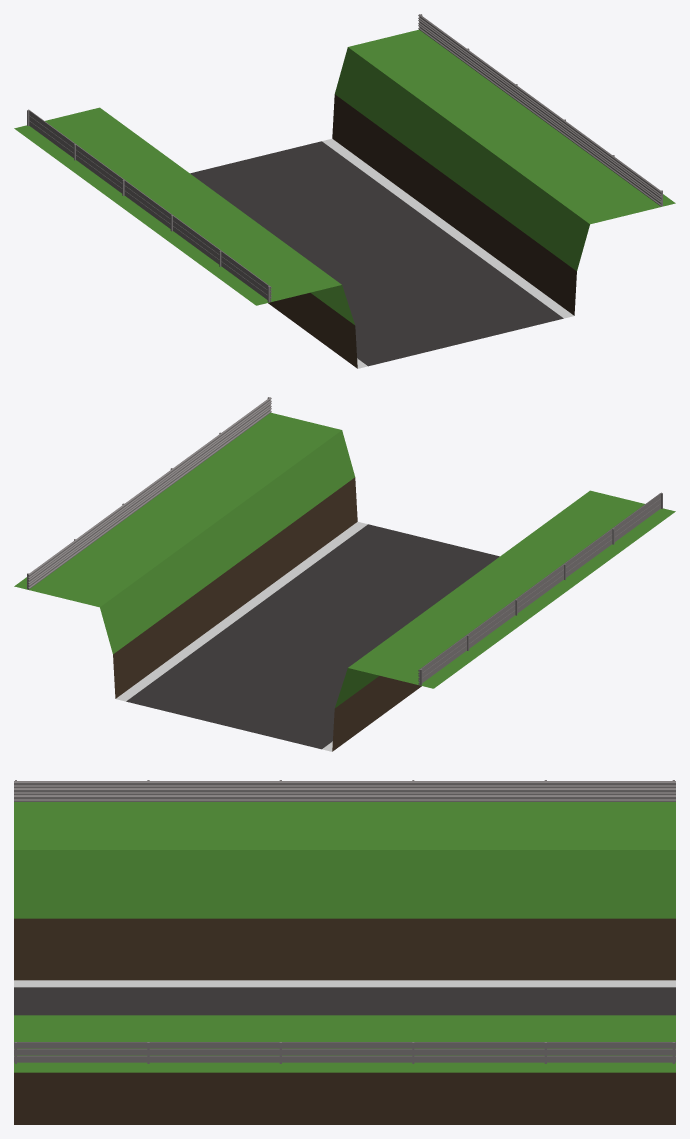
The model's file is tiles-nb_tile-race-track-cliff-nb.fbx.
The picture shows the model from 3 angles, top to bottom: view 1: azimuth 30°, elevation 25°; view 2: azimuth 150°, elevation 25°; view 3: azimuth 270°, elevation 25°; orthographic projection. The views are drawn at different scales.
Parts seen in each view (by area): view 1: tiles_nb_tile_race_track_cliff_nb; view 2: tiles_nb_tile_race_track_cliff_nb; view 3: tiles_nb_tile_race_track_cliff_nb.
Part boxes in pixels (x1,y1,x2,y2): tiles_nb_tile_race_track_cliff_nb: [14, 14, 675, 368]; tiles_nb_tile_race_track_cliff_nb: [14, 397, 675, 751]; tiles_nb_tile_race_track_cliff_nb: [14, 780, 675, 1124].
Bounding box in the file's own units: 200 × 47 × 200.
